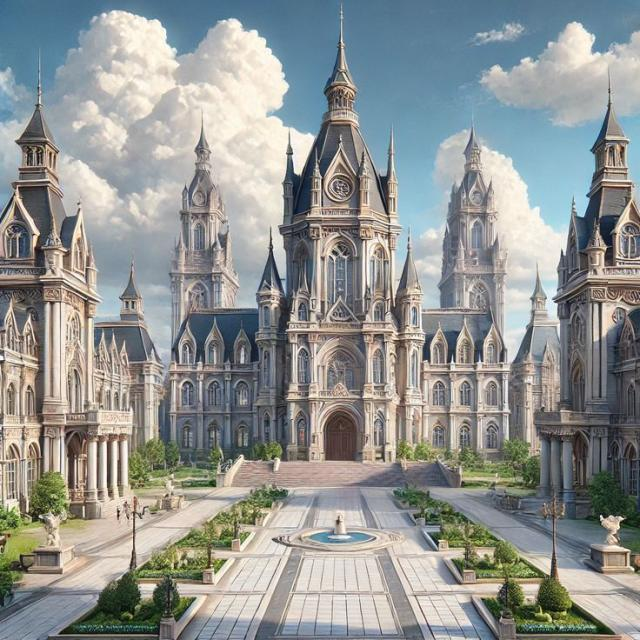castle: (90, 0, 615, 496)
